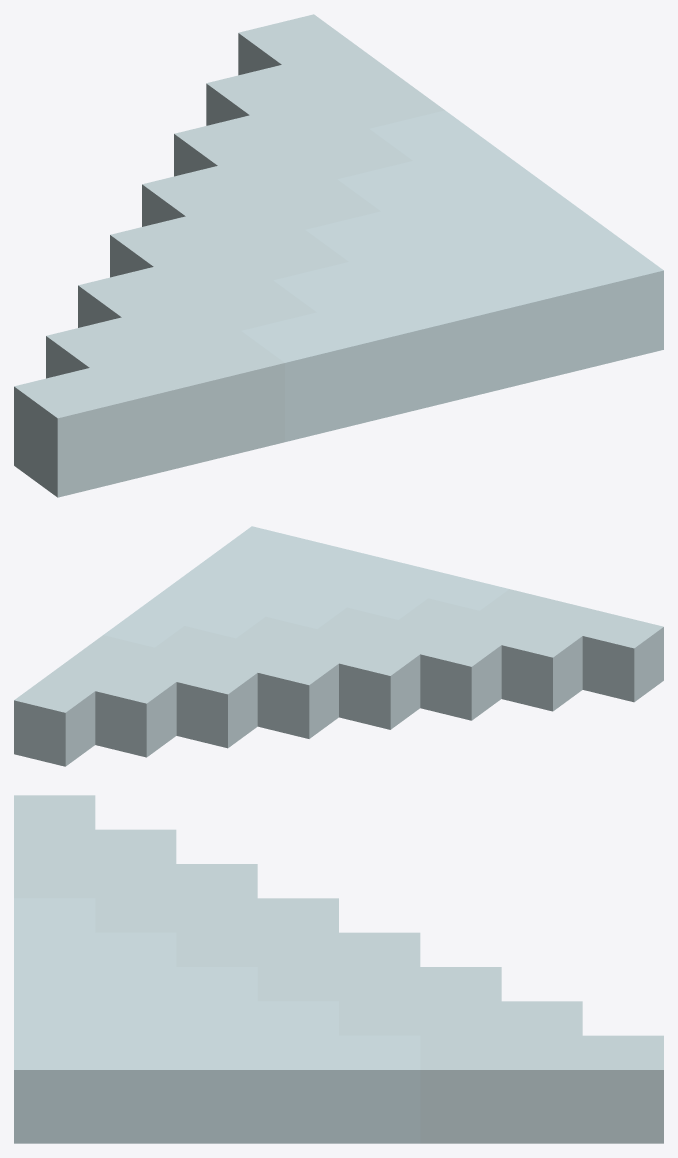
Rendered from grass_lined_cornor_medium.obj.
3 views of the same model, one above another, from view 1: azimuth 30°, elevation 25°; view 2: azimuth 150°, elevation 25°; view 3: azimuth 270°, elevation 25° (orthographic). The views are drawn at different scales.
Size of the model in its own units: 0.8 by 0.1 by 0.8.
Materials: 1 (1 with a texture image).
